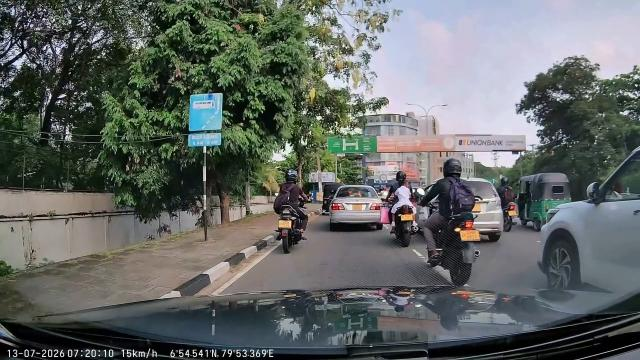number plate: (459, 227, 481, 244)
